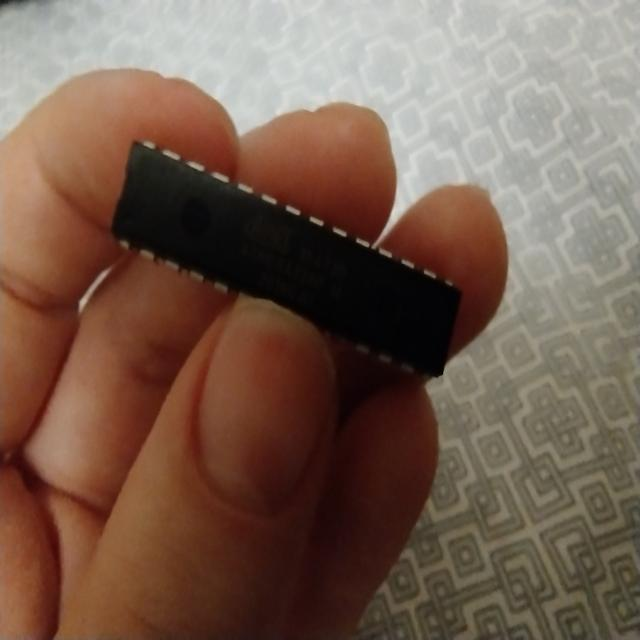atmega: (108, 135, 465, 383)
